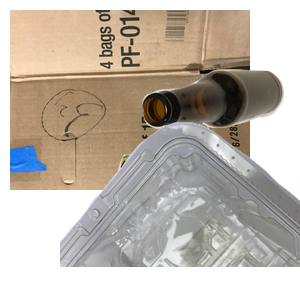cardboard: (10, 10, 250, 190)
glass: (140, 67, 300, 188)
plastic: (60, 120, 300, 300)
trash: (105, 152, 280, 300)
